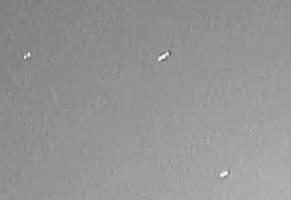Target: (25, 53, 227, 176)
